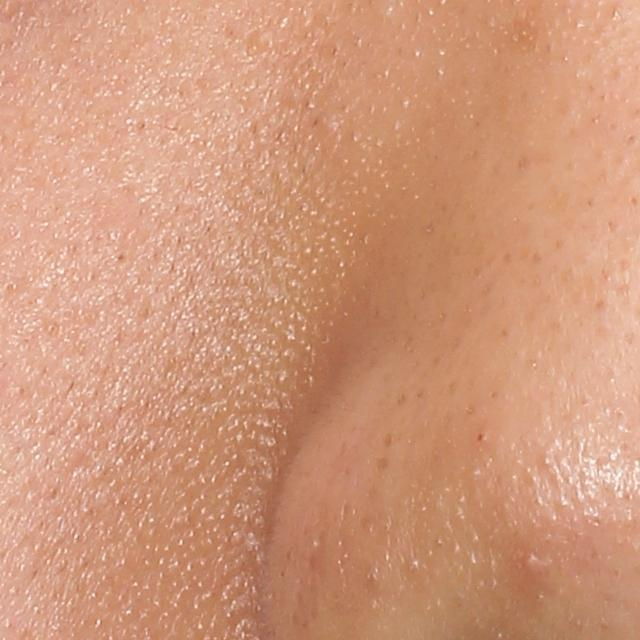comedo: (522, 552, 548, 576)
